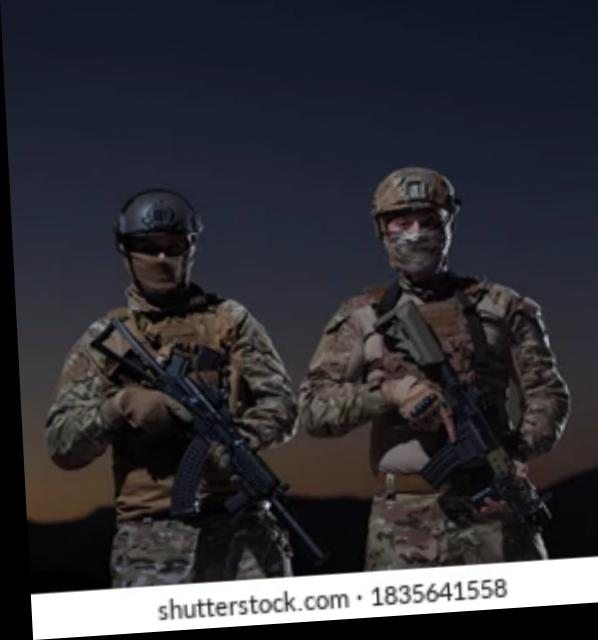other: (279, 164, 579, 560), (44, 189, 289, 566)
